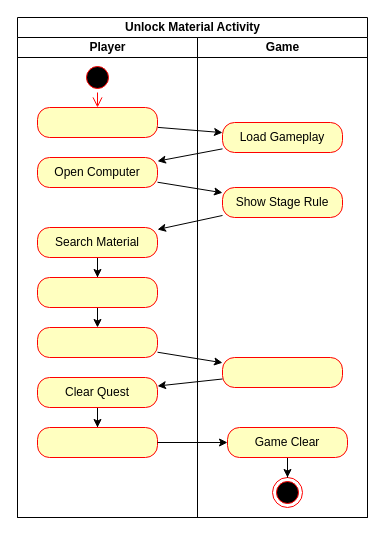
Some shapes in this 385 by 535 pixel diagram are drawn without their labels. The shapes that lost their labels are listed below. From the top down, each one's box as (x1, y1, x2, y2) in pixels, then its label:
(36, 106, 158, 138): Play Game
(36, 276, 158, 308): Go to Exit Door
(36, 326, 158, 358): Open Quest Panel
(222, 356, 342, 388): Show All Quest
(36, 426, 158, 458): Go to Warp
